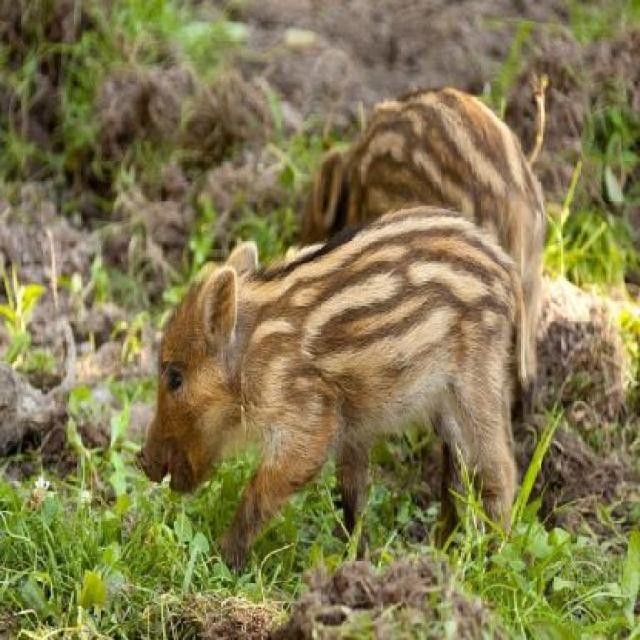wildboar: (123, 195, 537, 582), (274, 79, 552, 415)
